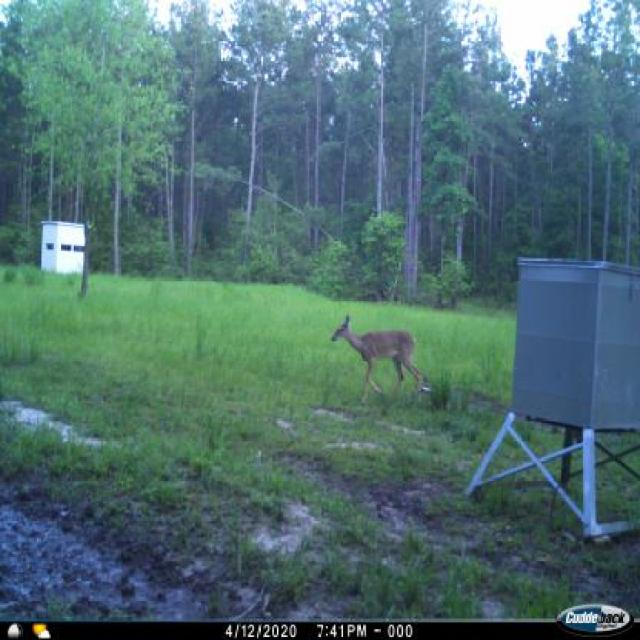Deer: (327, 313, 433, 411)
